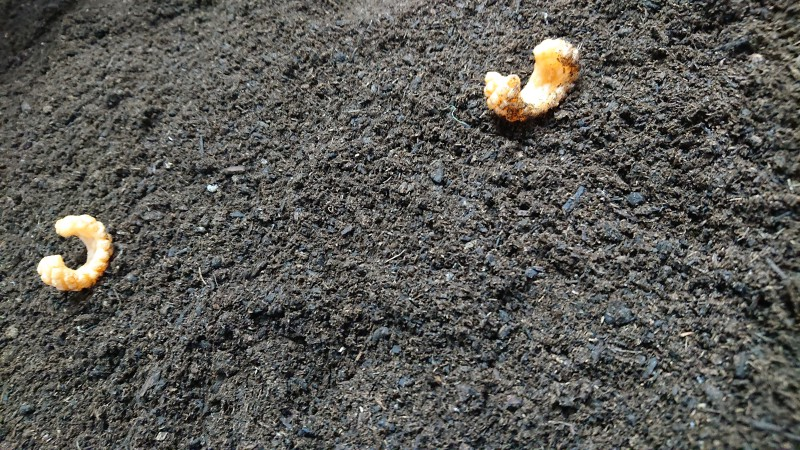eggs: (480, 35, 581, 124), (36, 212, 117, 292)
